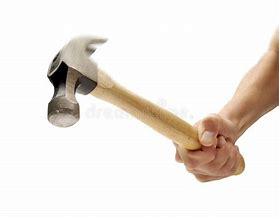hammer: (43, 32, 248, 185)
